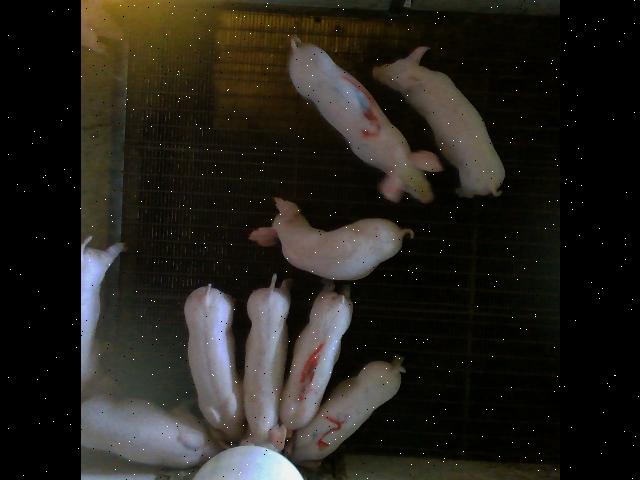pig-1: (278, 281, 351, 430)
pig-3: (288, 38, 439, 202)
pig-5: (288, 356, 404, 464)
